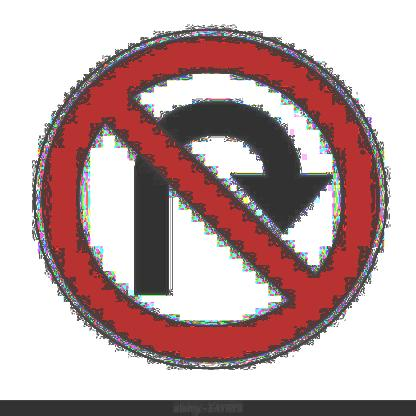No U-turn: (27, 27, 389, 372)
